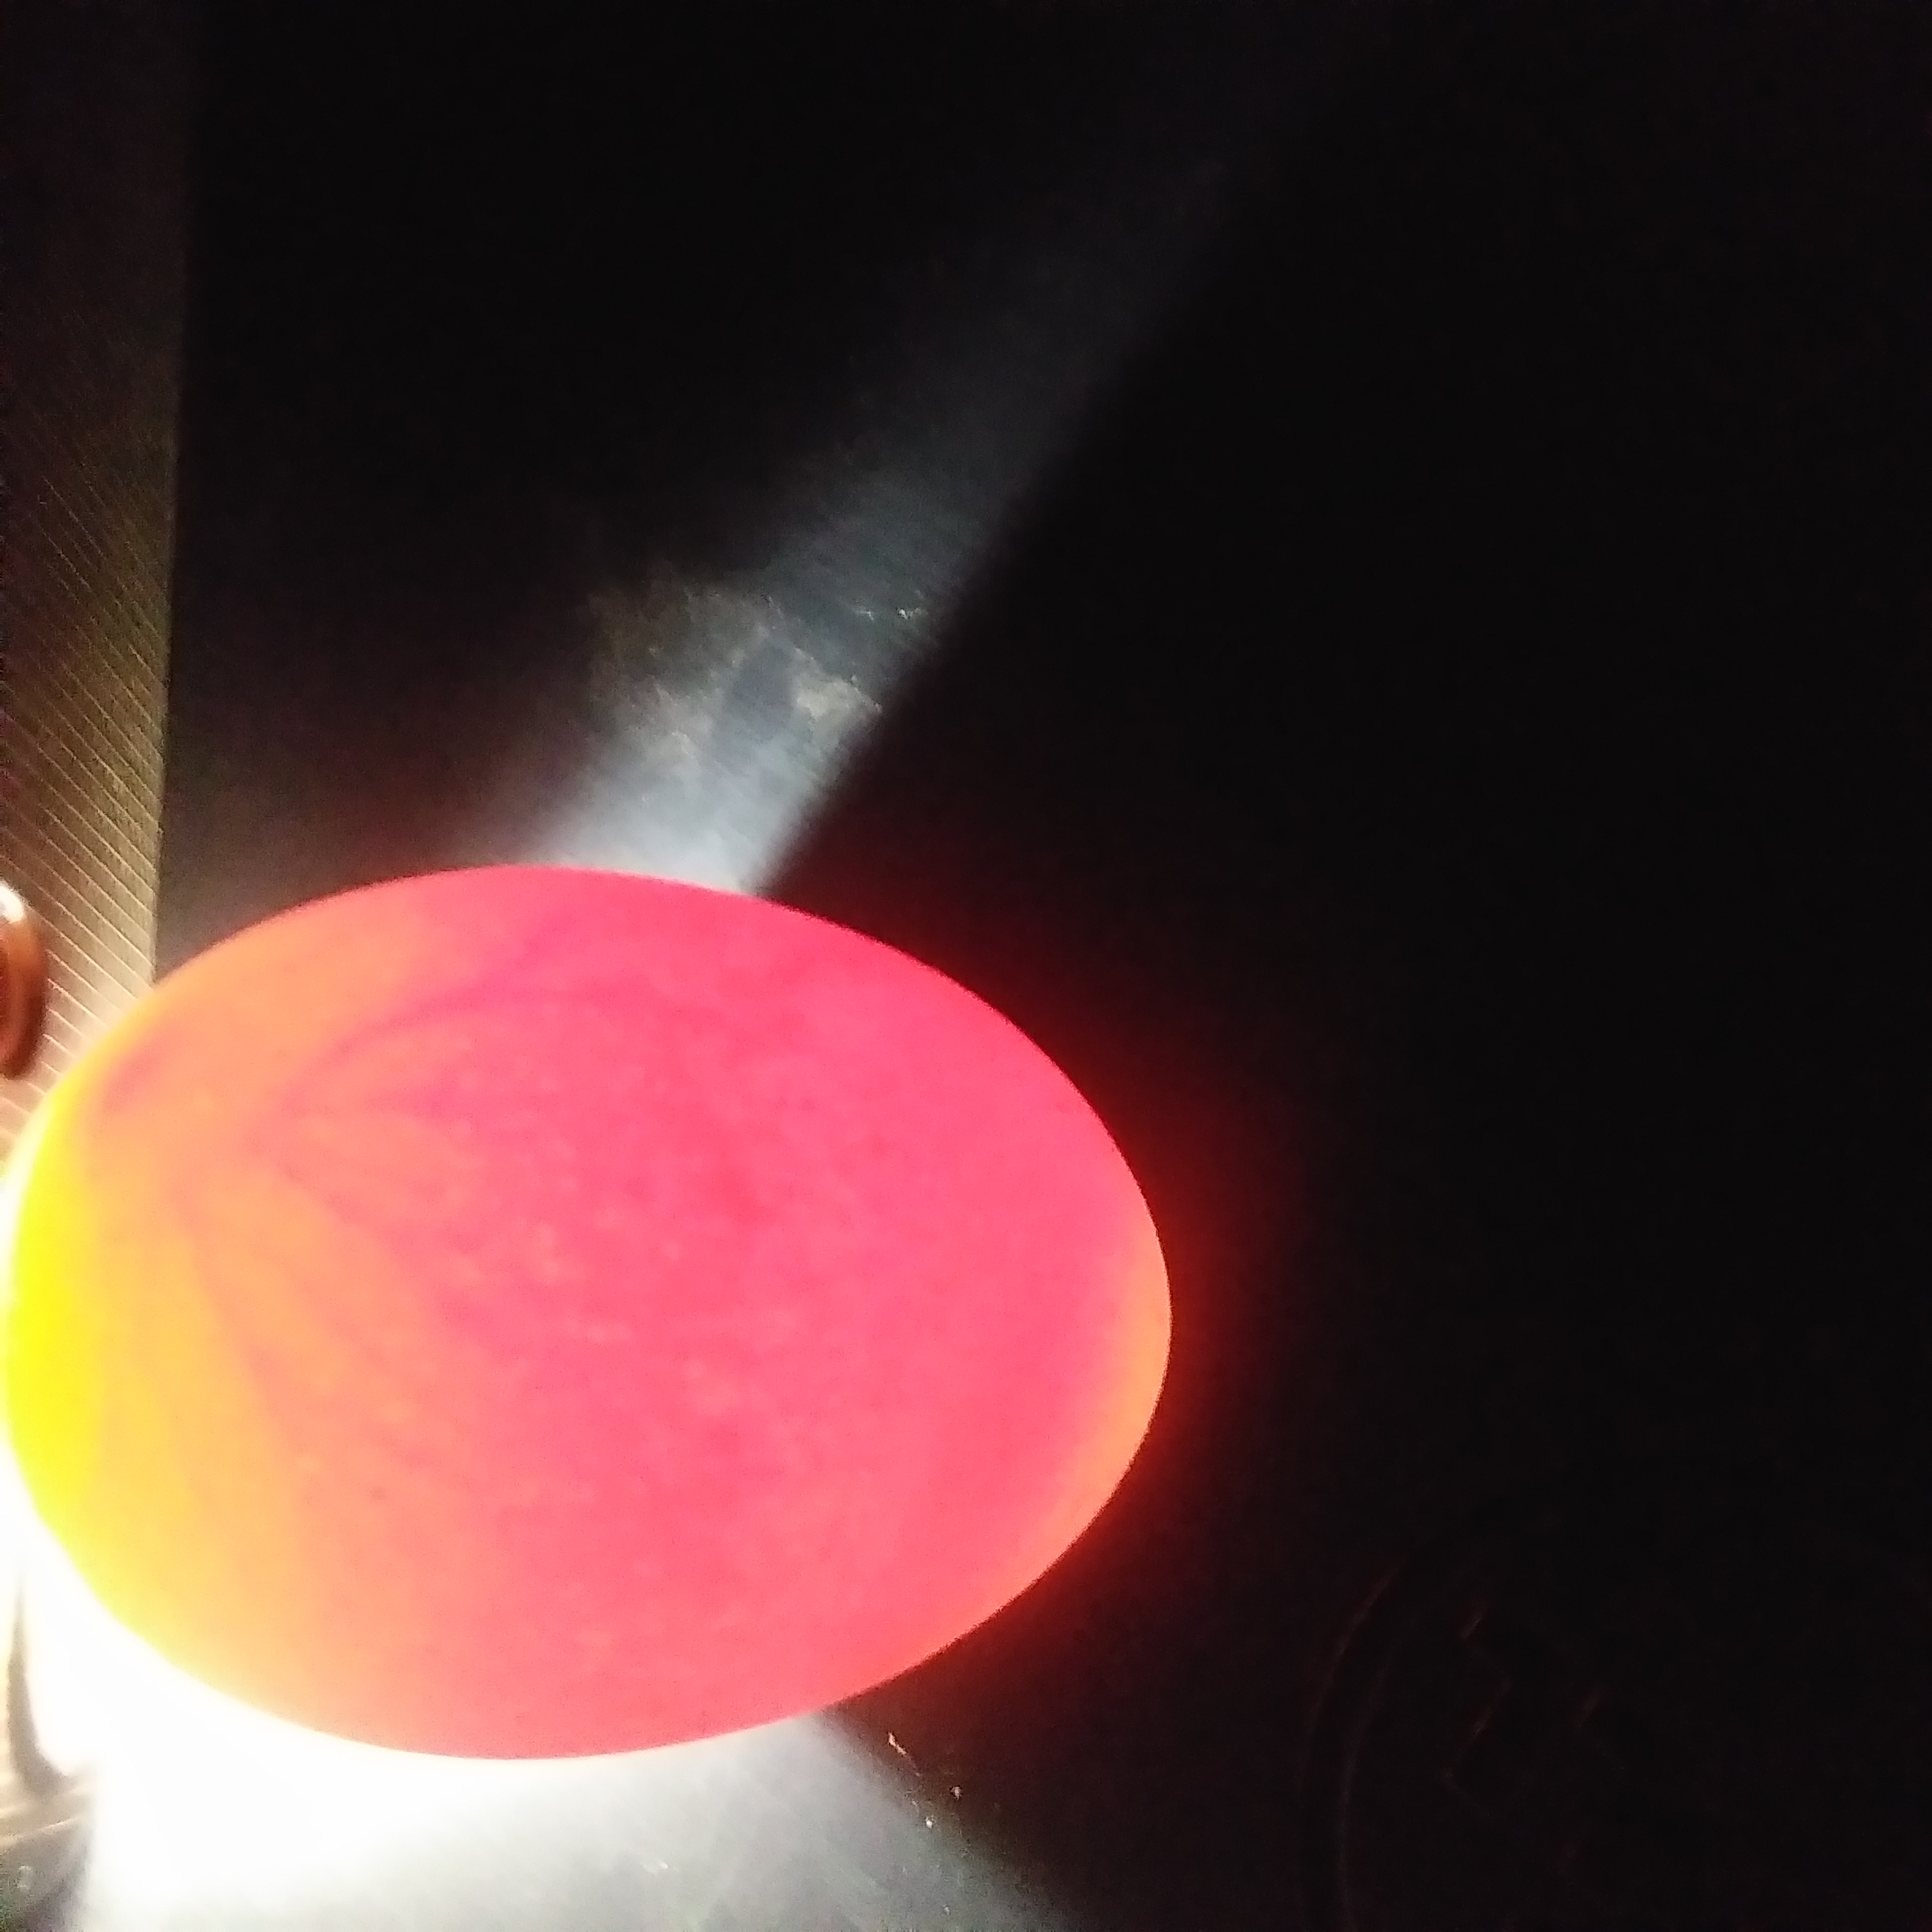bloodcell: (165, 1097, 593, 1537), (301, 982, 570, 1051)
